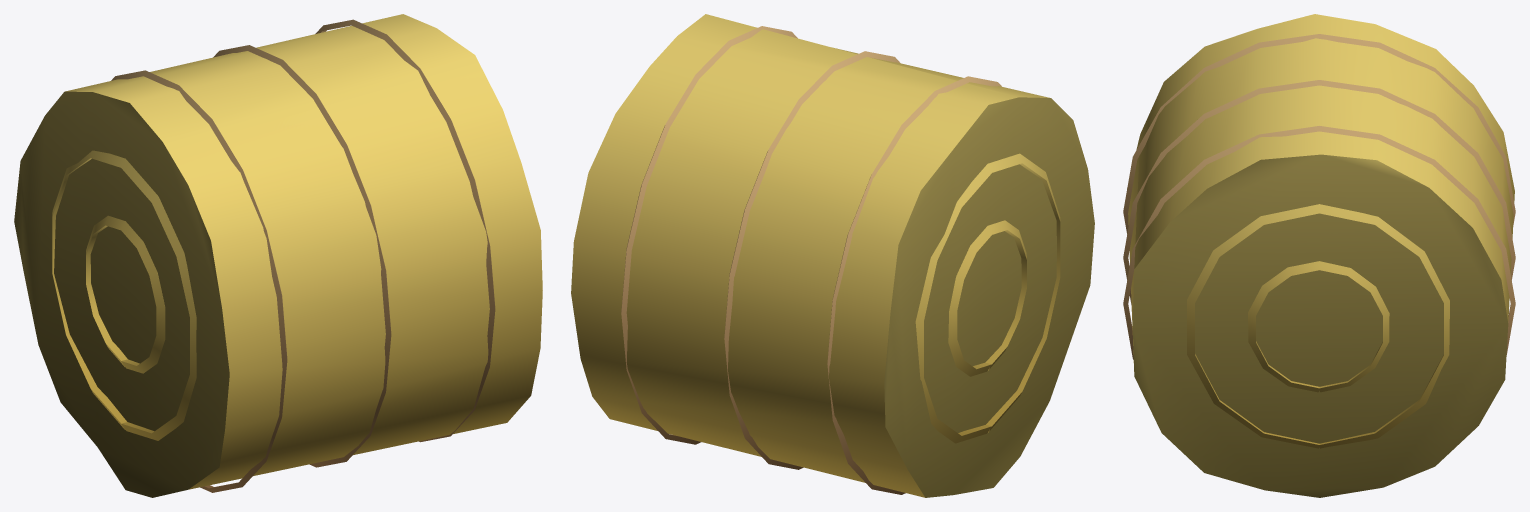
File: HayBale_Round.fbx
The picture shows the model from 3 angles, left to right: view 1: azimuth 30°, elevation 25°; view 2: azimuth 150°, elevation 25°; view 3: azimuth 270°, elevation 25°; orthographic projection. The views are drawn at different scales.
Parts seen in each view (by area): view 1: HayBale_Round_LOD0; view 2: HayBale_Round_LOD0; view 3: HayBale_Round_LOD0.
Boxes of the visible parts, <box> form: HayBale_Round_LOD0: <box>14,14,542,497</box>; HayBale_Round_LOD0: <box>571,14,1094,497</box>; HayBale_Round_LOD0: <box>1123,14,1515,497</box>.
Size of what is drawn, in the model's own units: 1.24 by 1.44 by 1.44.
Materials: 1 (1 with a texture image).
